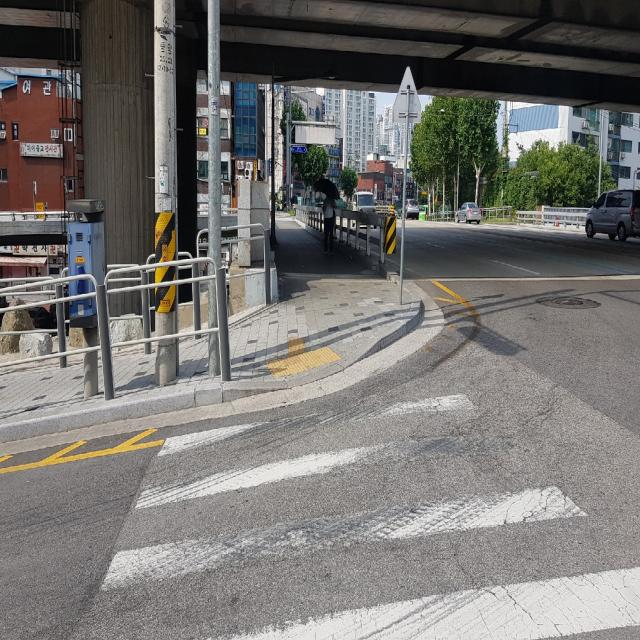횡단보도: (96, 388, 640, 640)
